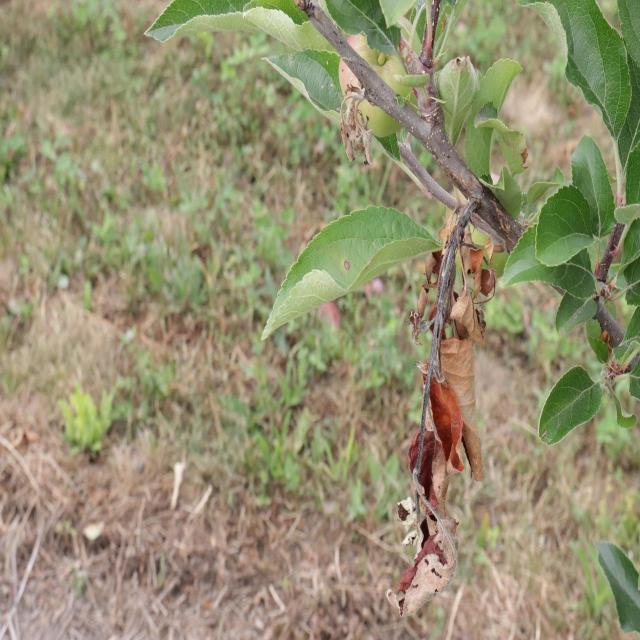-FireBlight-: (399, 196, 493, 602)
